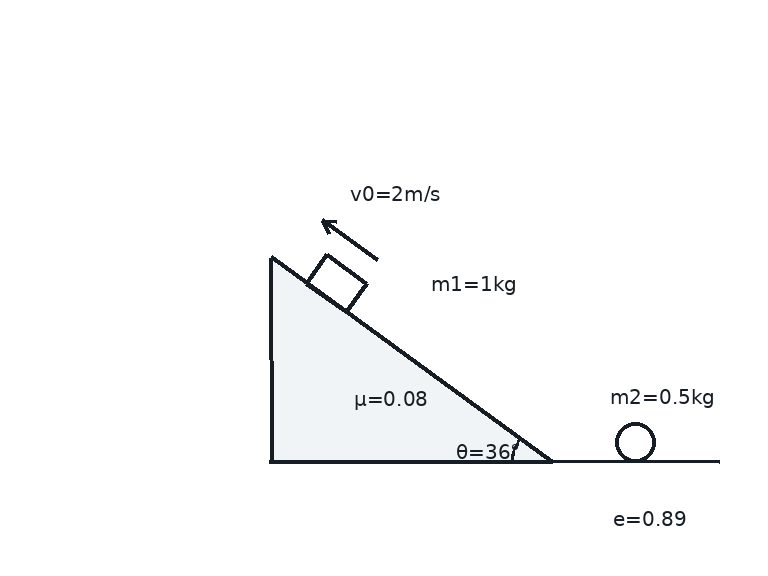ball: (613, 420, 657, 464)
block: (304, 252, 368, 314)
ramp: (268, 255, 554, 464)
